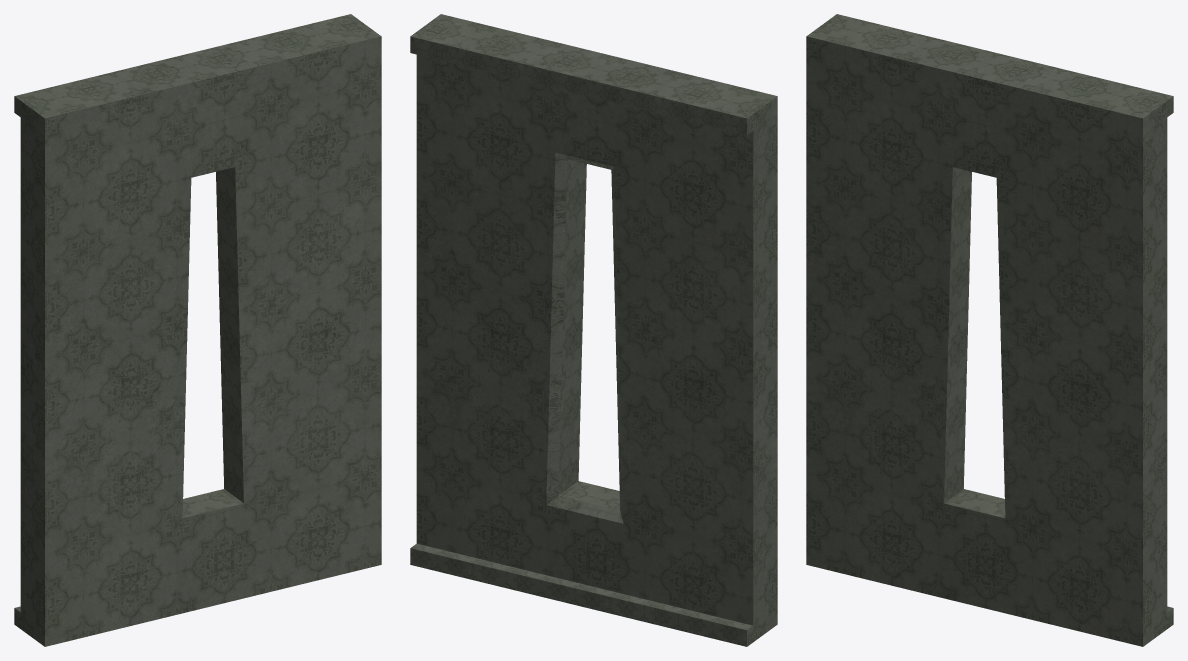
File: Wall_esssahl_window.fbx
3 renders of one model, left to right at view 1: azimuth 30°, elevation 25°; view 2: azimuth 150°, elevation 25°; view 3: azimuth 330°, elevation 25°, orthographic.
Visible parts, largest first — view 1: Wall_Esss_Window031; view 2: Wall_Esss_Window031; view 3: Wall_Esss_Window031.
Boxes of the visible parts, left/top/right/bottom form: Wall_Esss_Window031: left=14, top=14, right=381, bottom=646; Wall_Esss_Window031: left=410, top=14, right=777, bottom=646; Wall_Esss_Window031: left=806, top=14, right=1173, bottom=646.
Bounding box in the file's own units: 200 × 300 × 31.48.
